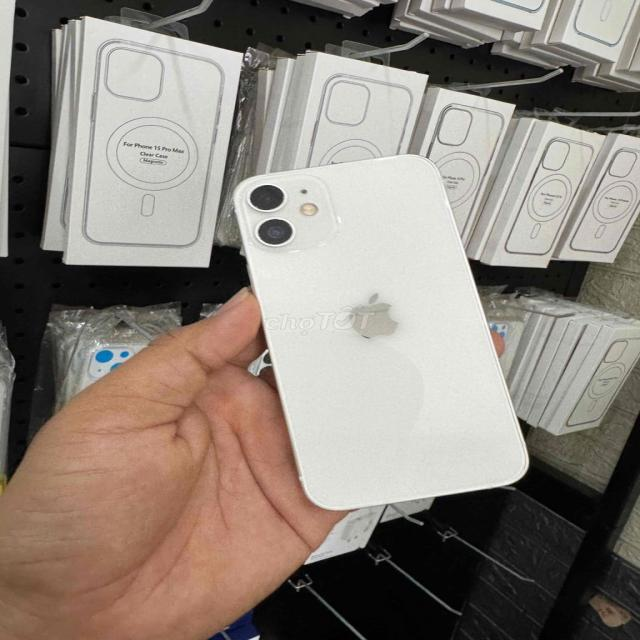gen_12_13: (230, 152, 531, 513)
